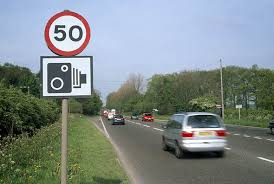Speed_limit_50km: (43, 11, 92, 56)
